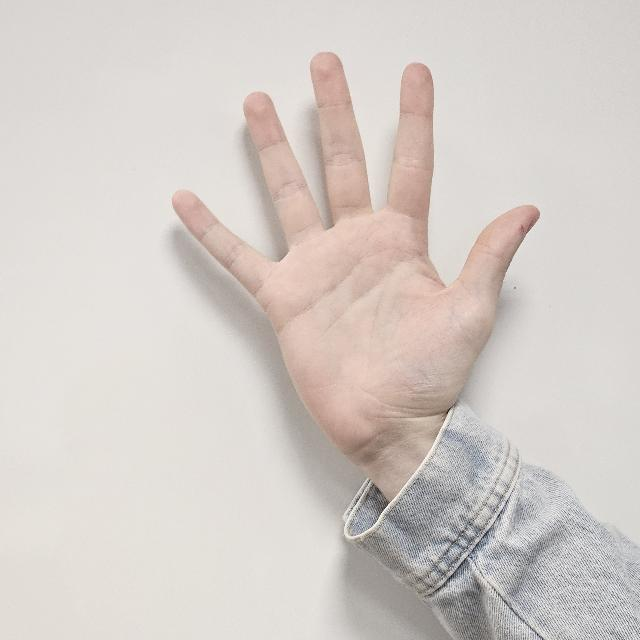X: (172, 51, 538, 482)
